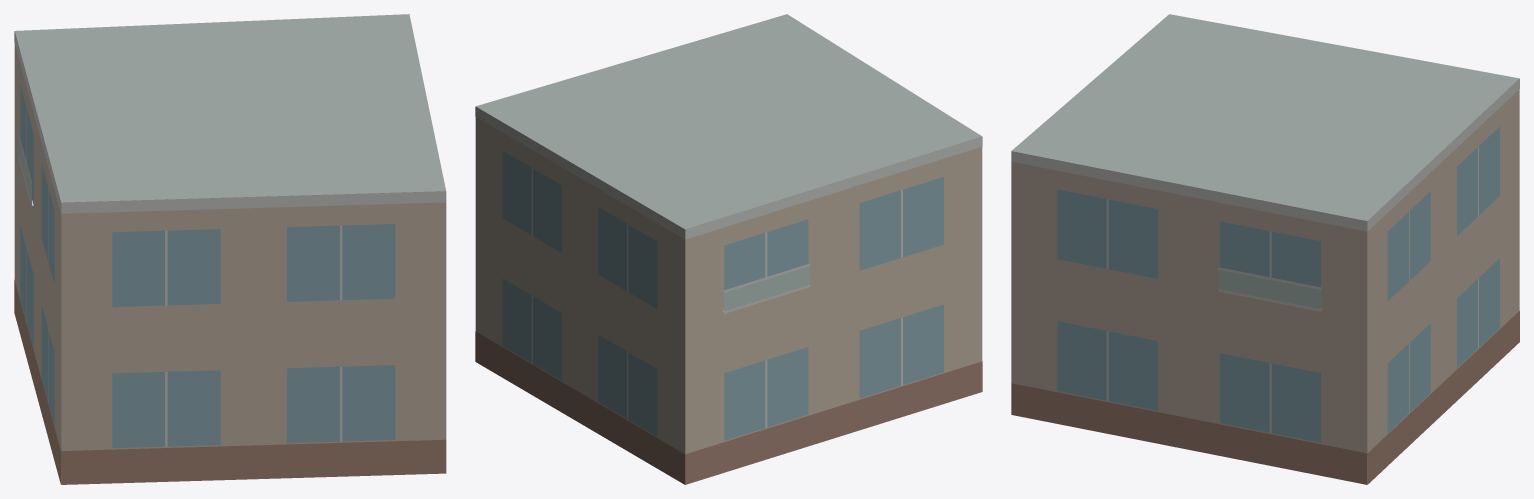
The model's file is survey-upis-32796089.glb.
3 renders of one model, left to right at view 1: azimuth 30°, elevation 25°; view 2: azimuth 150°, elevation 25°; view 3: azimuth 270°, elevation 25°, orthographic. The views are drawn at different scales.
Parts seen in each view (by area): view 1: survey-upis-32796089.tmp; view 2: survey-upis-32796089.tmp; view 3: survey-upis-32796089.tmp.
Part boxes in pixels (<box>): survey-upis-32796089.tmp: <box>14,14,446,484</box>; survey-upis-32796089.tmp: <box>475,14,982,484</box>; survey-upis-32796089.tmp: <box>1011,14,1519,484</box>.
Size of the model in its own units: 10.28 by 6.1 by 10.67.
